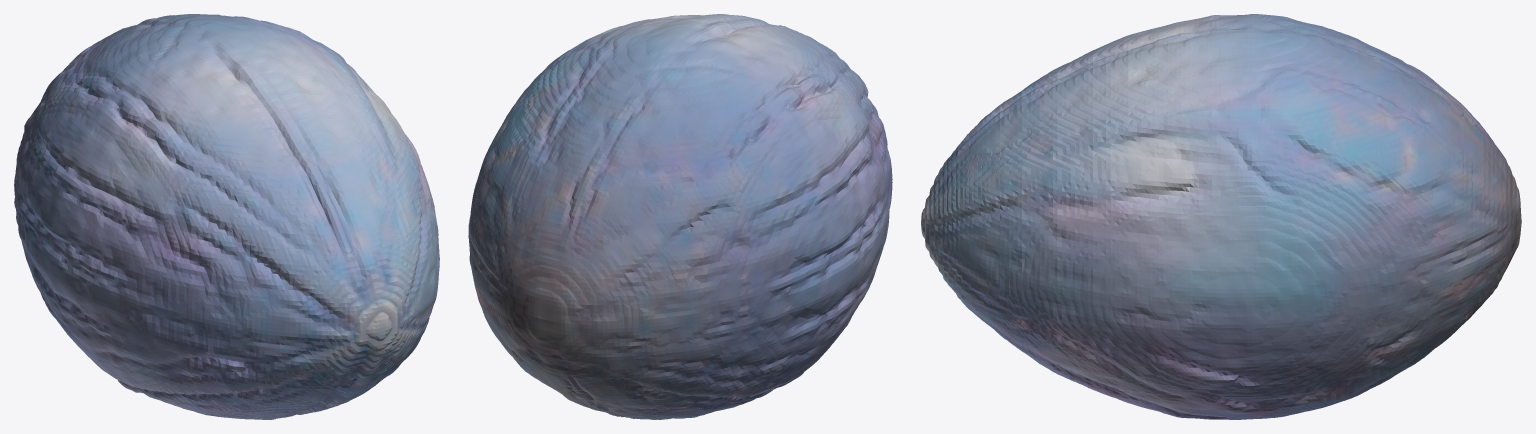
3 views of the same model, side by side, from view 1: azimuth 30°, elevation 25°; view 2: azimuth 150°, elevation 25°; view 3: azimuth 270°, elevation 25° (orthographic). The views are drawn at different scales.
Parts seen in each view (by area): view 1: world; view 2: world; view 3: world.
Part boxes in pixels (bbox=[...]): world: bbox=[14, 14, 439, 419]; world: bbox=[468, 14, 892, 419]; world: bbox=[921, 14, 1521, 419].
Bounding box in the file's own units: 0.6292 × 0.631 × 0.9279.
